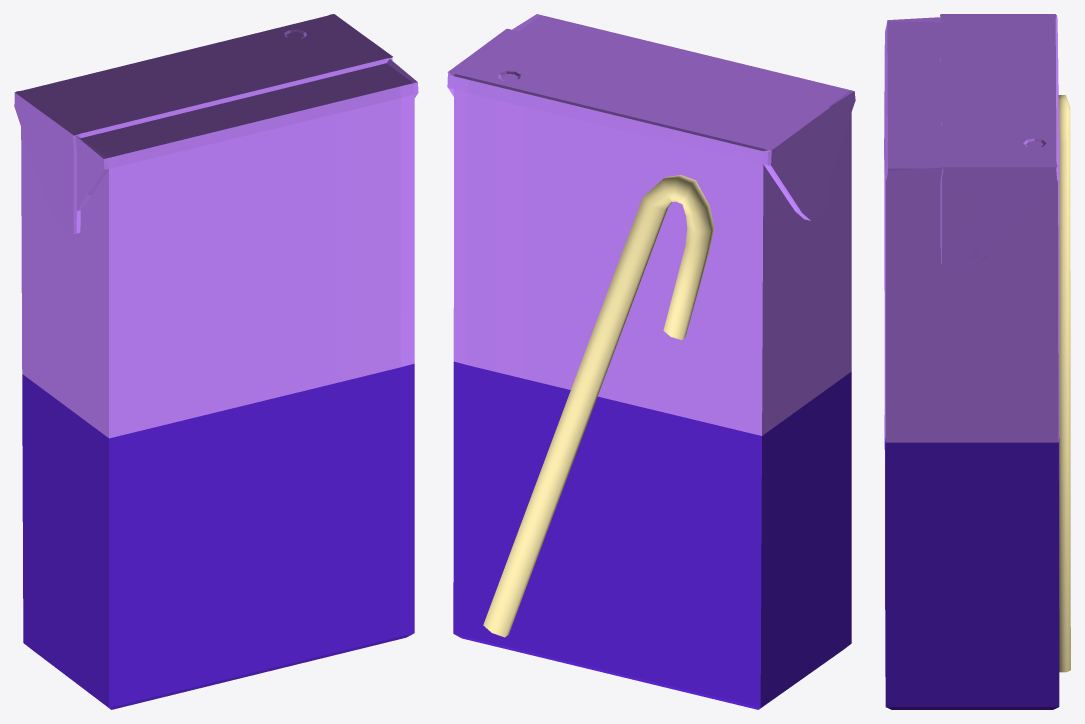
Rendered from Grape Juice.fbx.
3 renders of one model, left to right at view 1: azimuth 30°, elevation 25°; view 2: azimuth 150°, elevation 25°; view 3: azimuth 270°, elevation 25°, orthographic. The views are drawn at different scales.
Parts seen in each view (by area): view 1: Node 0; view 2: Node 0; view 3: Node 0.
Boxes of the visible parts, bbox=[...] form: Node 0: bbox=[14, 14, 418, 709]; Node 0: bbox=[447, 14, 855, 709]; Node 0: bbox=[884, 14, 1070, 709].
Size of the model in its own units: 0.0474 by 0.1536 by 0.0921.
